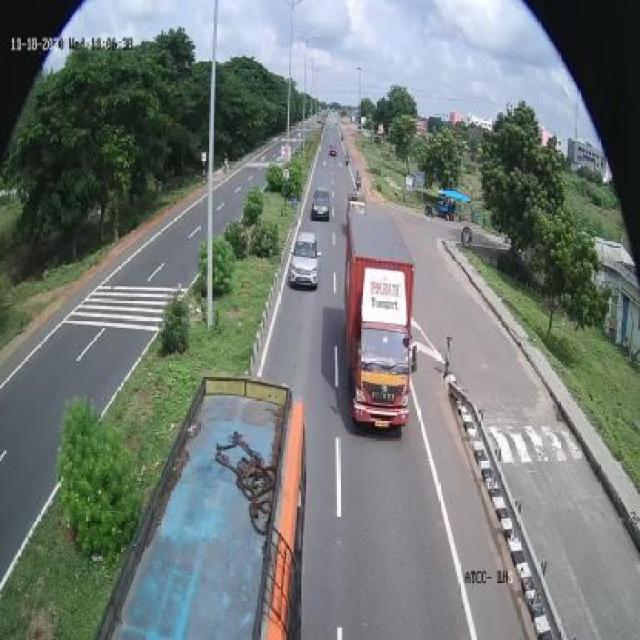car: (292, 228, 323, 294), (312, 182, 334, 226)
